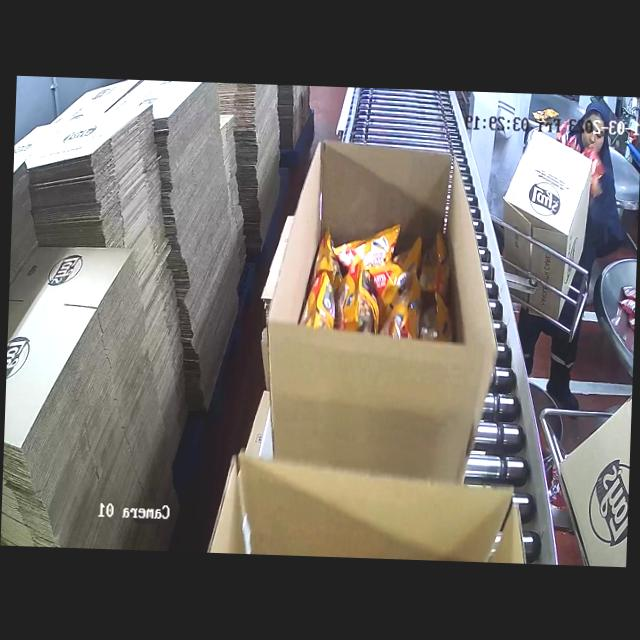cheese: (303, 227, 427, 331)
